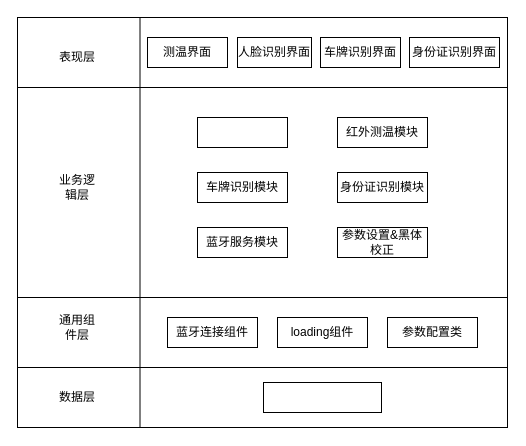
Some shapes in this 526 by 446 pixel diagram are drawn without their labels. Here are the shapes that lost their labels. From the top down, the centre of each, then its label:
At point 242,132: "人脸识别模块".
At point 322,397: "安卓本地存储".
